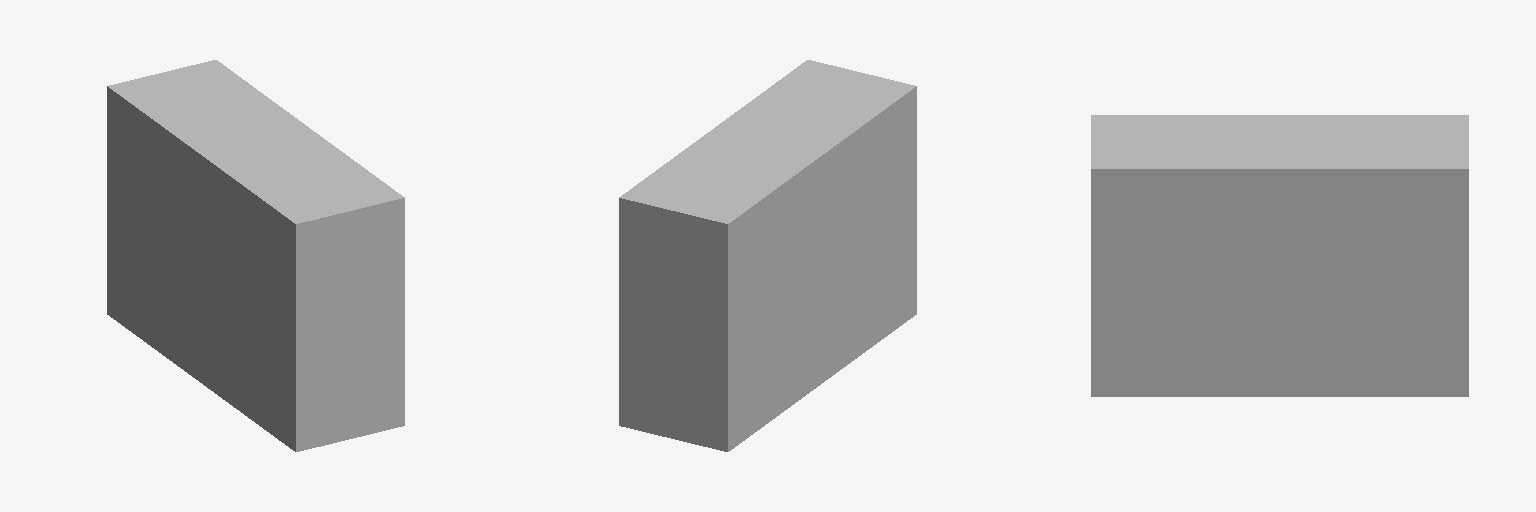
The model's file is Cubesat_6U.obj.
3 views of the same model, side by side, from view 1: azimuth 30°, elevation 25°; view 2: azimuth 150°, elevation 25°; view 3: azimuth 270°, elevation 25° (orthographic).
Parts seen in each view (by area): view 1: Cube1; view 2: Cube1; view 3: Cube1.
Part boxes in pixels (left/top/right/bottom): Cube1: left=107, top=60, right=404, bottom=451; Cube1: left=619, top=60, right=916, bottom=451; Cube1: left=1091, top=115, right=1468, bottom=396.
Bounding box in the file's own units: 0.1 × 0.2 × 0.3.